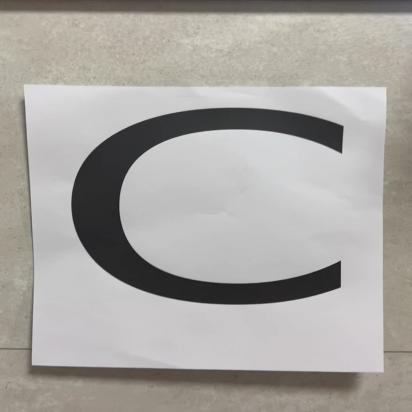seat: (30, 94, 394, 365)
